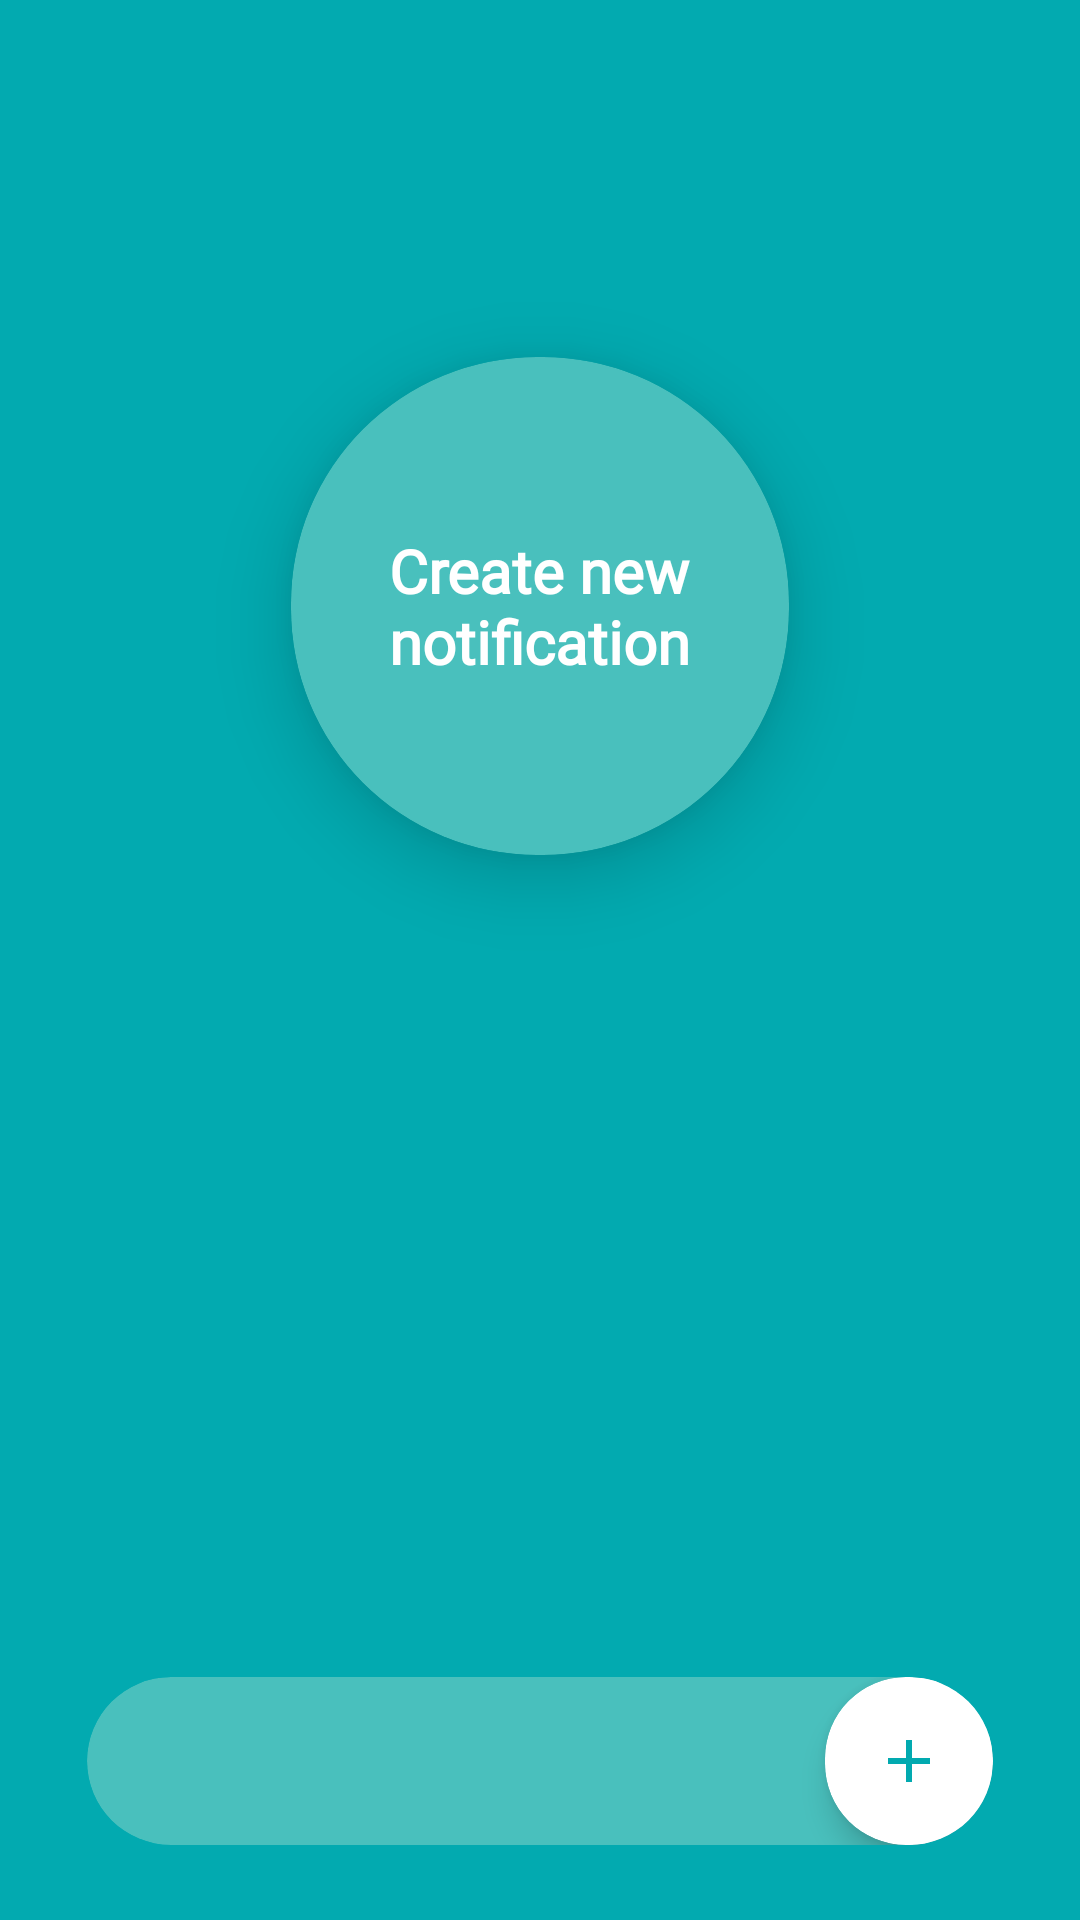

Icon click points for this 1080px×1920px phone screenshot, format [x,y]:
Button plus: [909,1761]
